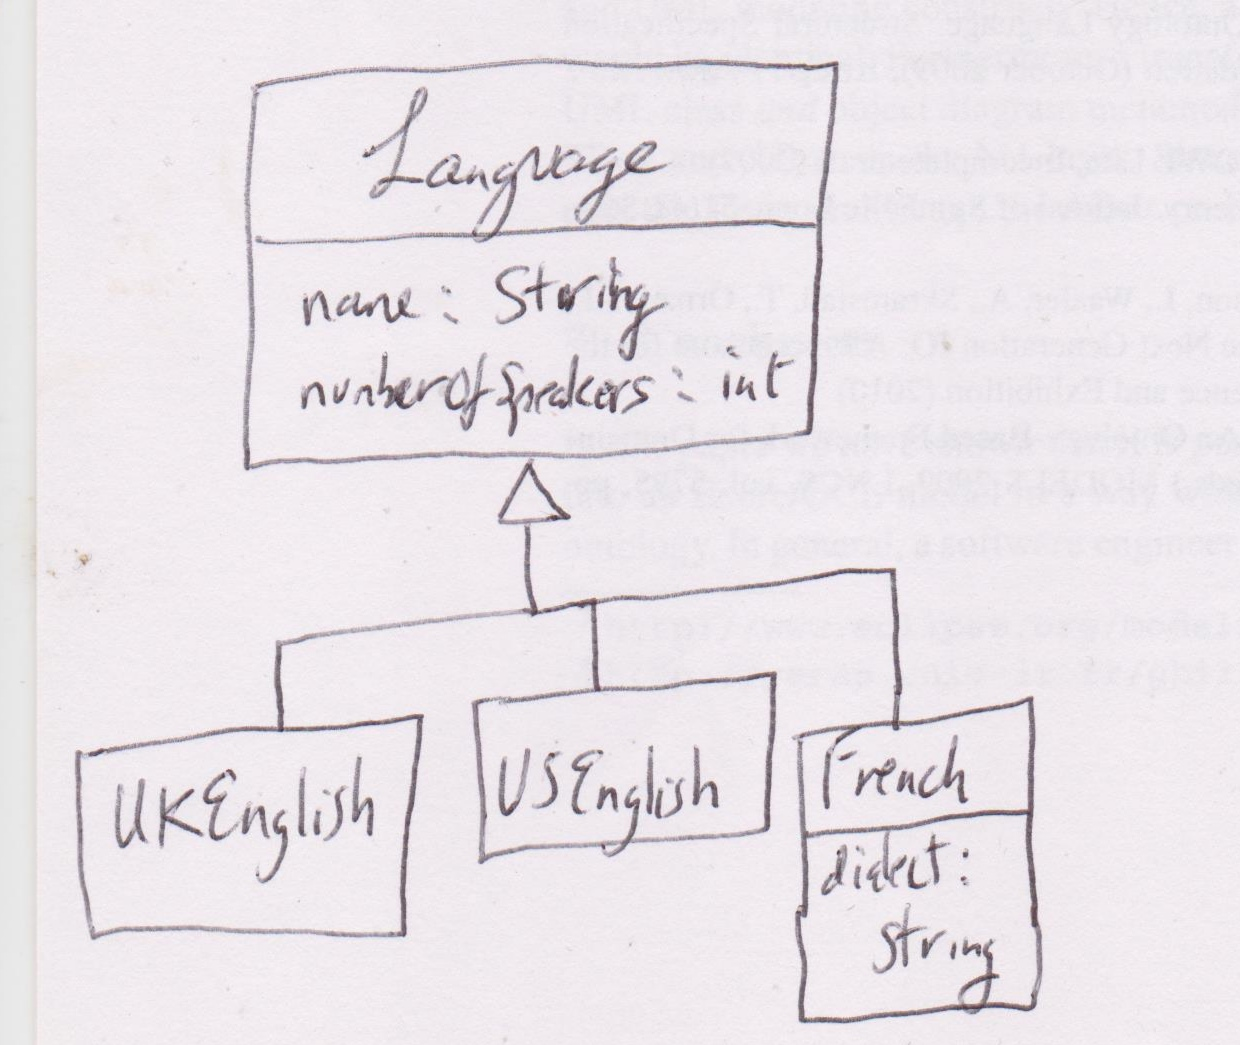class attributes: (238, 50, 844, 471), (791, 698, 1048, 1025)
inheritance: (265, 453, 915, 737)
simple class: (73, 711, 420, 947), (467, 676, 776, 860)
